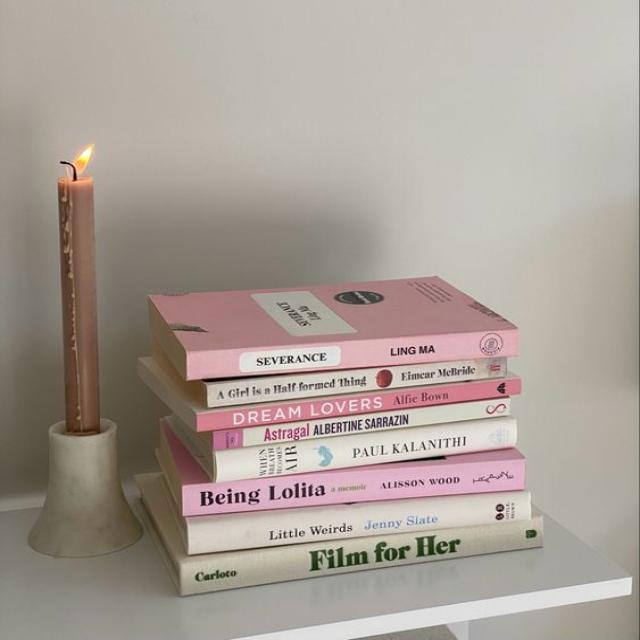book: (181, 519, 542, 595), (192, 490, 530, 554), (181, 458, 523, 515), (216, 421, 516, 481), (196, 377, 521, 431), (187, 329, 517, 378), (212, 401, 510, 450), (202, 361, 506, 406)
candle: (28, 147, 140, 556)
